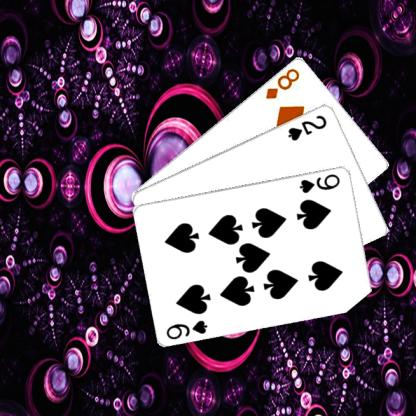2S: (286, 112, 328, 142)
8D: (263, 65, 301, 100)
9S: (297, 170, 342, 194), (164, 317, 209, 340)
